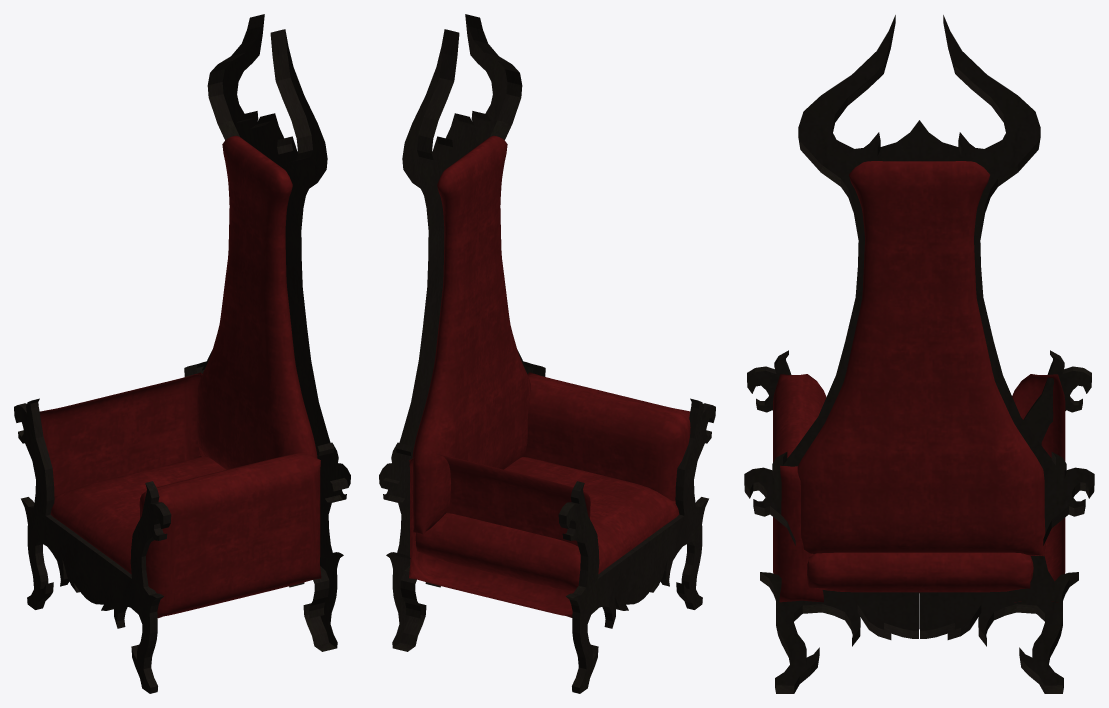
The model's file is Кресло.fbx.
3 renders of one model, left to right at view 1: azimuth 30°, elevation 25°; view 2: azimuth 150°, elevation 25°; view 3: azimuth 270°, elevation 25°, orthographic. The views are drawn at different scales.
Parts seen in each view (by area): view 1: BezierCurve.025, BezierCurve.020; view 2: BezierCurve.025, BezierCurve.020; view 3: BezierCurve.025, BezierCurve.020.
Boxes of the visible parts, x1=… form: BezierCurve.025: x1=40, y1=135, x2=321, y2=618; BezierCurve.020: x1=14, y1=14, x2=350, y2=693; BezierCurve.025: x1=409, y1=135, x2=690, y2=617; BezierCurve.020: x1=379, y1=14, x2=715, y2=693; BezierCurve.025: x1=773, y1=161, x2=1065, y2=602; BezierCurve.020: x1=744, y1=15, x2=1094, y2=693.
Size of the model in its own units: 230 by 686 by 324.
2 materials, 2 textured.
